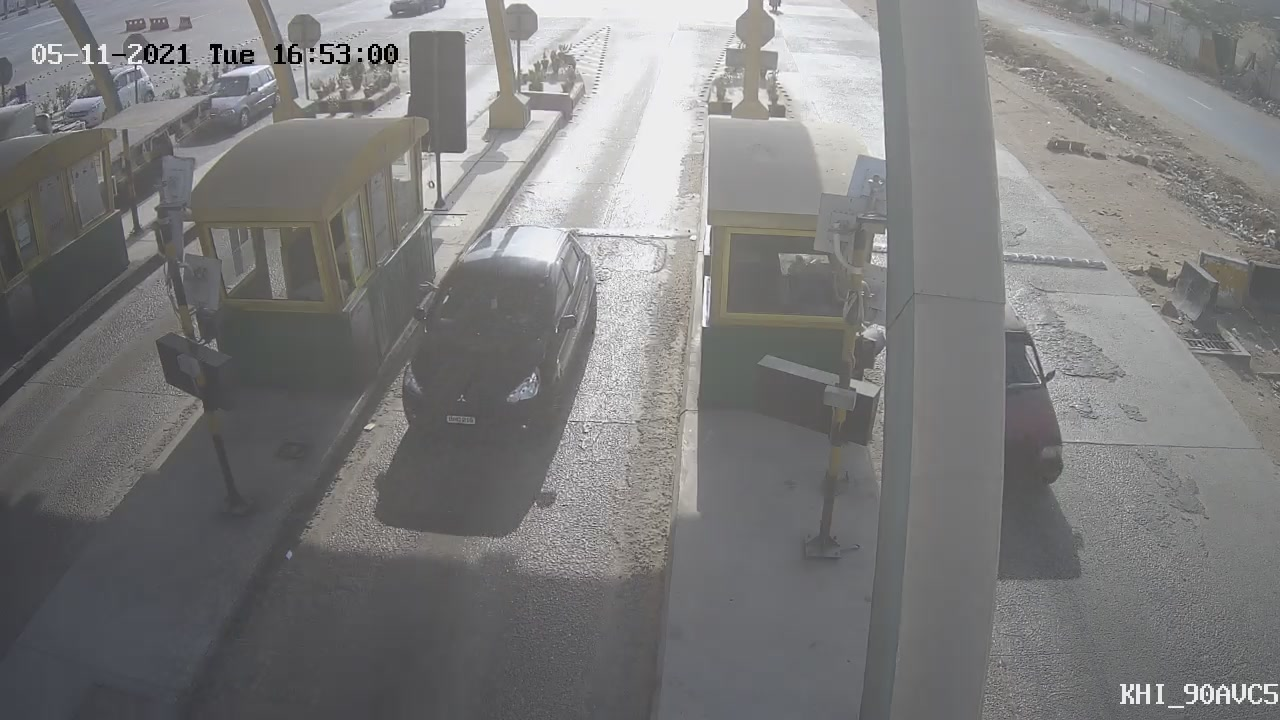F1: (379, 205, 614, 465)
